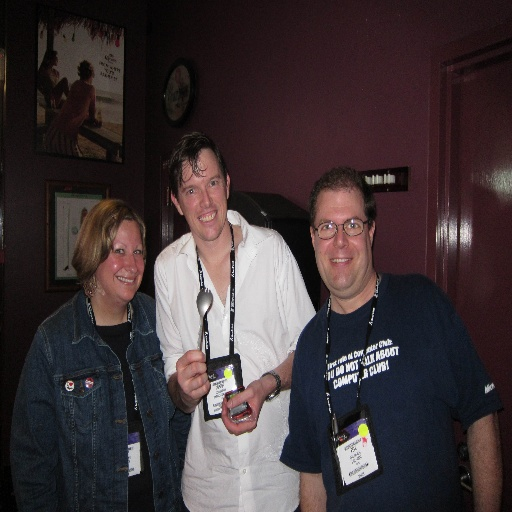hand: (219, 376, 263, 436), (160, 352, 211, 399)
